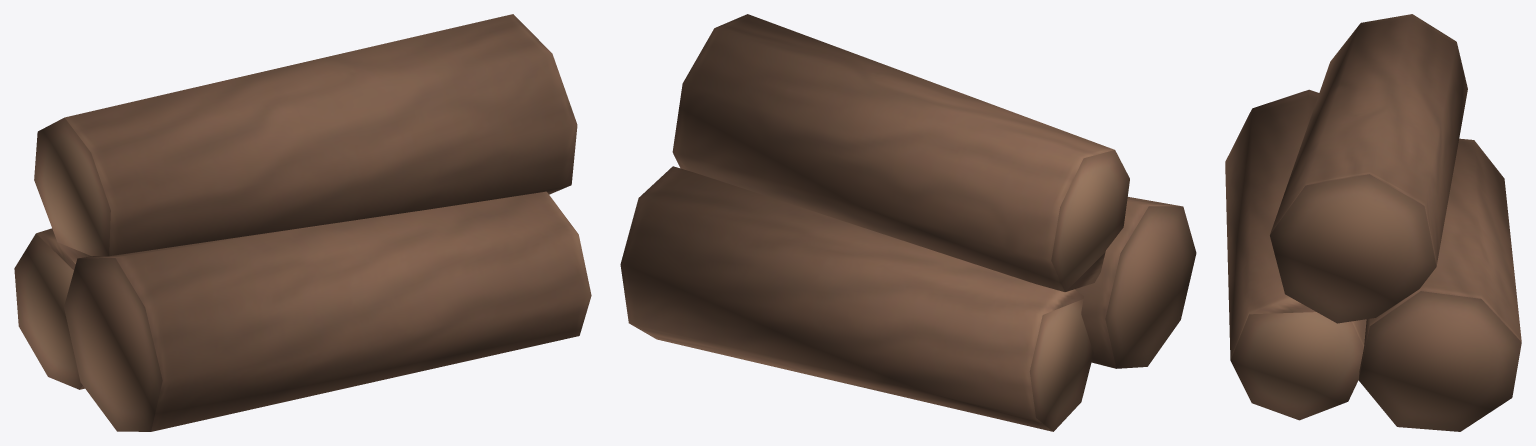
File: logMesh2.fbx
The picture shows the model from 3 angles, left to right: view 1: azimuth 30°, elevation 25°; view 2: azimuth 150°, elevation 25°; view 3: azimuth 270°, elevation 25°; orthographic projection. The views are drawn at different scales.
Visible parts, largest first — view 1: logs; view 2: logs; view 3: logs.
Part boxes in pixels (x1,y1,x2,y2): logs: (14, 14, 591, 431); logs: (620, 14, 1196, 431); logs: (1225, 14, 1521, 431).
Bounding box in the file's own units: 68.32 × 42.74 × 45.18.
